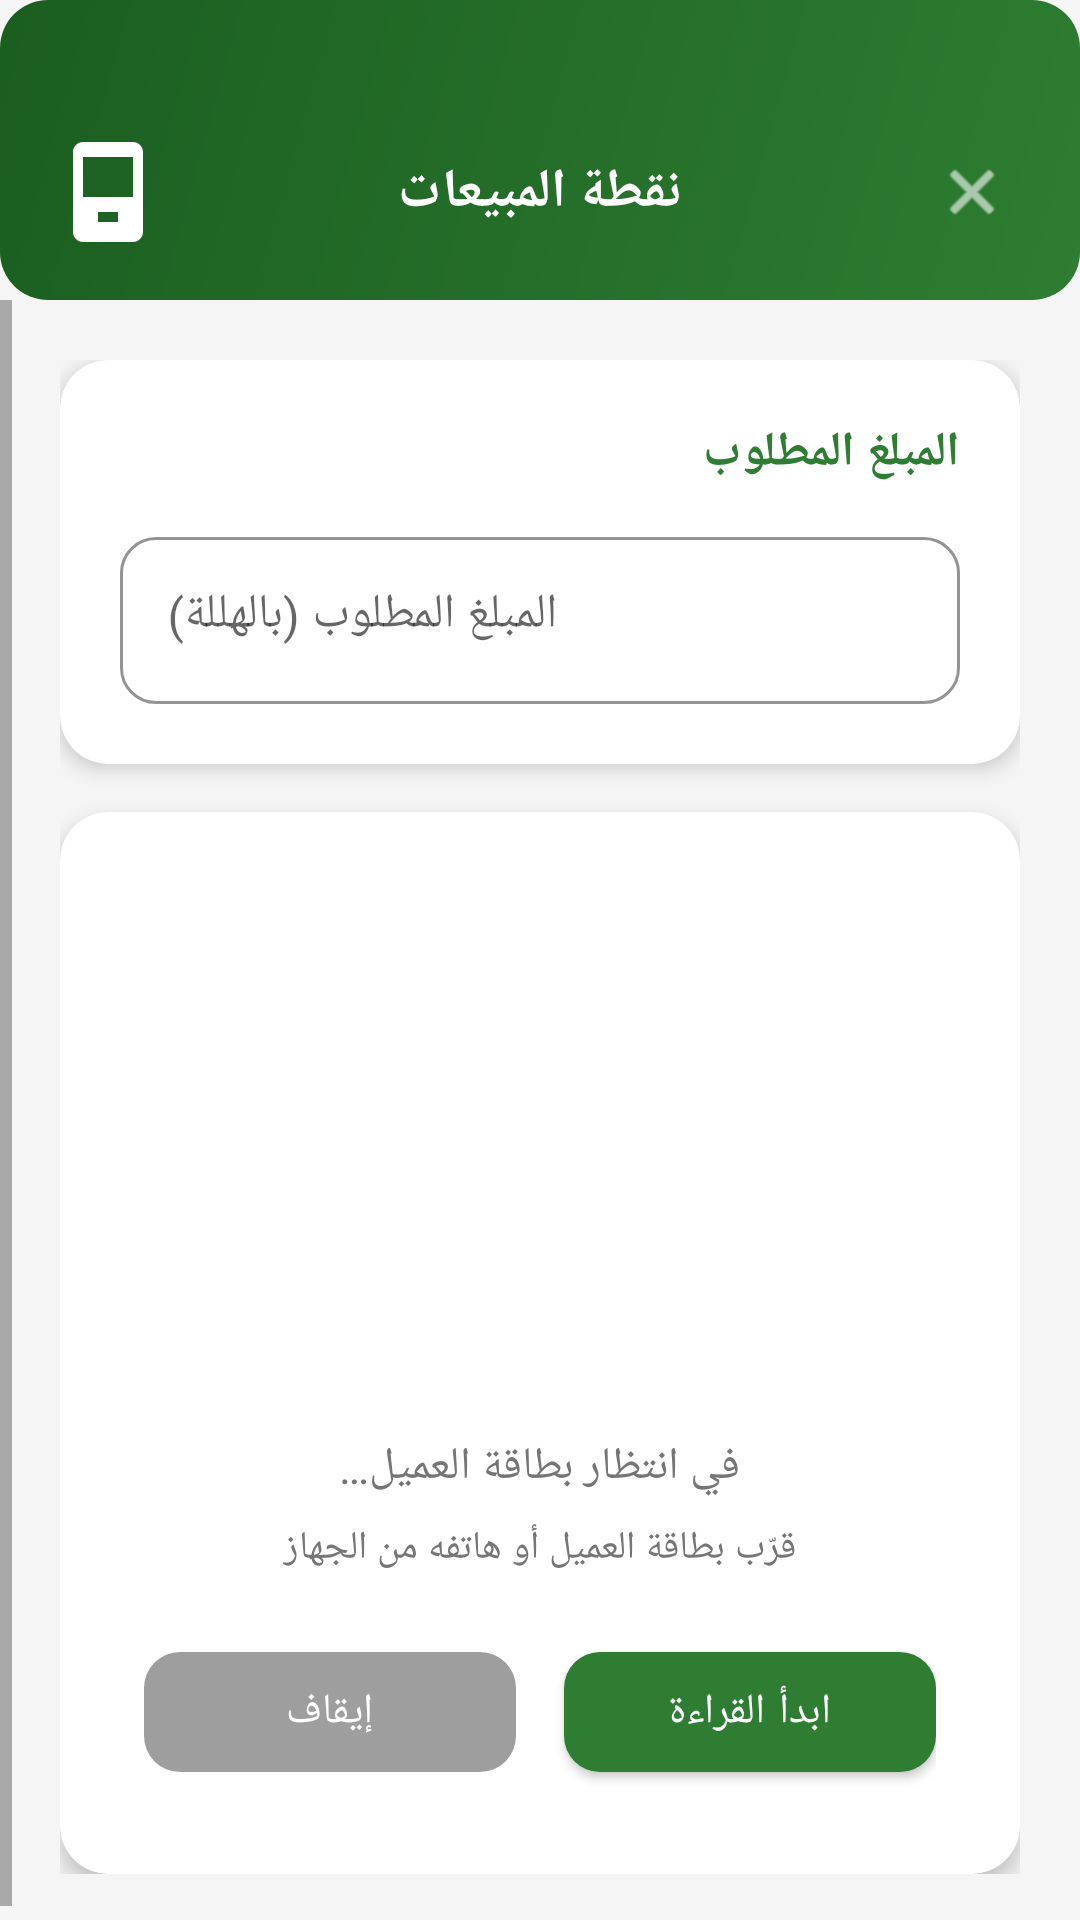

Screen size 1080 x 1920. Icon name, then its box in pixels as bbox=(x1, y1, x2, y2):
pos terminal: bbox=(73, 142, 143, 242)
